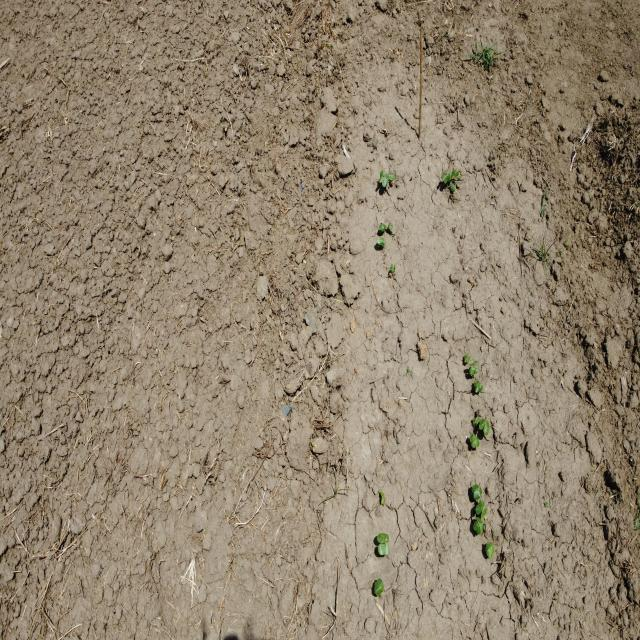seedling: (374, 578, 382, 594), (473, 486, 482, 500), (378, 544, 389, 555), (377, 533, 389, 543), (476, 499, 484, 514), (476, 517, 483, 534), (376, 583, 384, 597), (473, 521, 481, 535), (382, 173, 389, 187), (484, 420, 490, 435), (485, 542, 494, 552), (487, 547, 495, 558), (473, 433, 479, 447), (470, 434, 476, 448), (377, 236, 385, 246), (475, 383, 483, 393), (481, 507, 487, 520), (378, 170, 384, 182), (444, 173, 450, 185), (469, 367, 478, 375), (479, 418, 485, 430), (468, 360, 478, 367), (472, 484, 479, 494), (474, 379, 481, 387), (464, 354, 471, 361), (379, 224, 385, 232), (450, 183, 455, 192), (452, 168, 457, 176), (390, 174, 396, 180), (391, 265, 395, 274), (455, 170, 459, 179), (473, 418, 476, 426), (476, 418, 479, 425), (464, 358, 468, 363)
